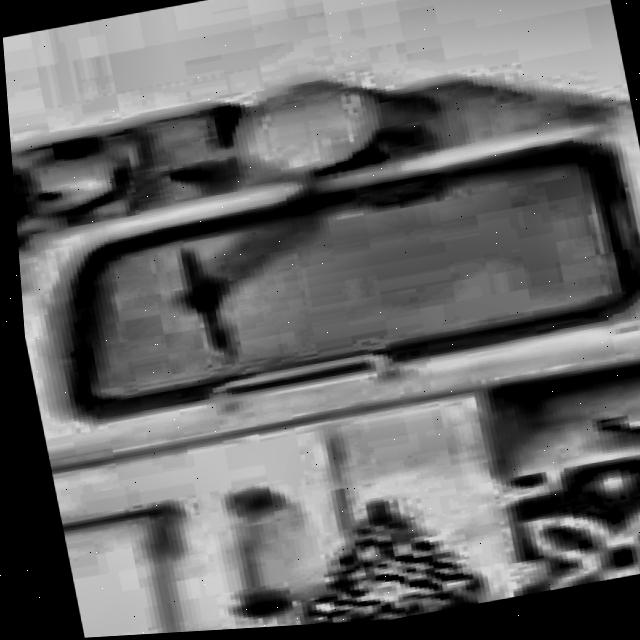Lokomotif: (3, 14, 640, 640)
